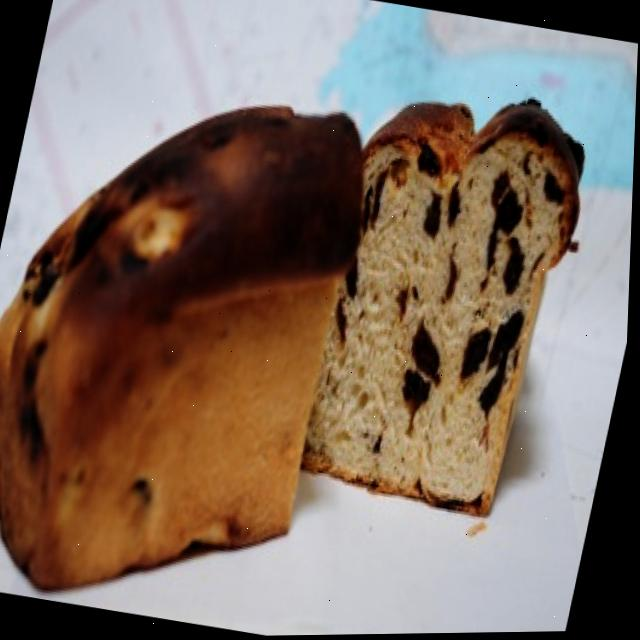面包点心: (0, 22, 617, 622)
